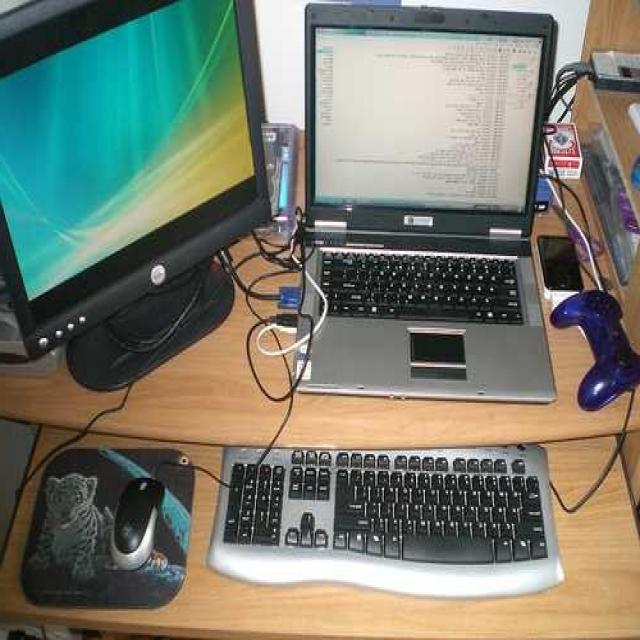laptop: (284, 6, 552, 398)
